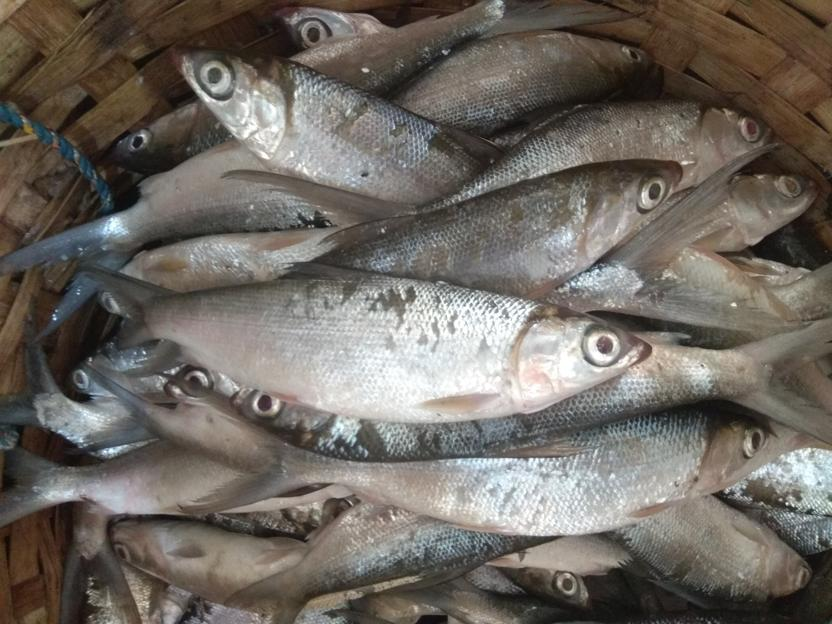Fish head: (513, 307, 653, 416), (172, 43, 294, 165), (584, 158, 685, 257), (690, 407, 780, 496), (694, 100, 771, 191), (728, 171, 820, 247), (114, 99, 205, 174), (239, 384, 335, 443), (108, 518, 188, 586), (277, 5, 395, 49), (496, 566, 592, 611), (64, 339, 128, 395), (758, 545, 814, 601), (163, 363, 239, 404)
Fish tail: (610, 141, 814, 336), (152, 372, 294, 516), (1, 212, 136, 351), (220, 168, 414, 235), (736, 319, 832, 444), (474, 1, 650, 42), (59, 537, 140, 624), (1, 318, 60, 431), (222, 565, 308, 624), (1, 447, 57, 530)
